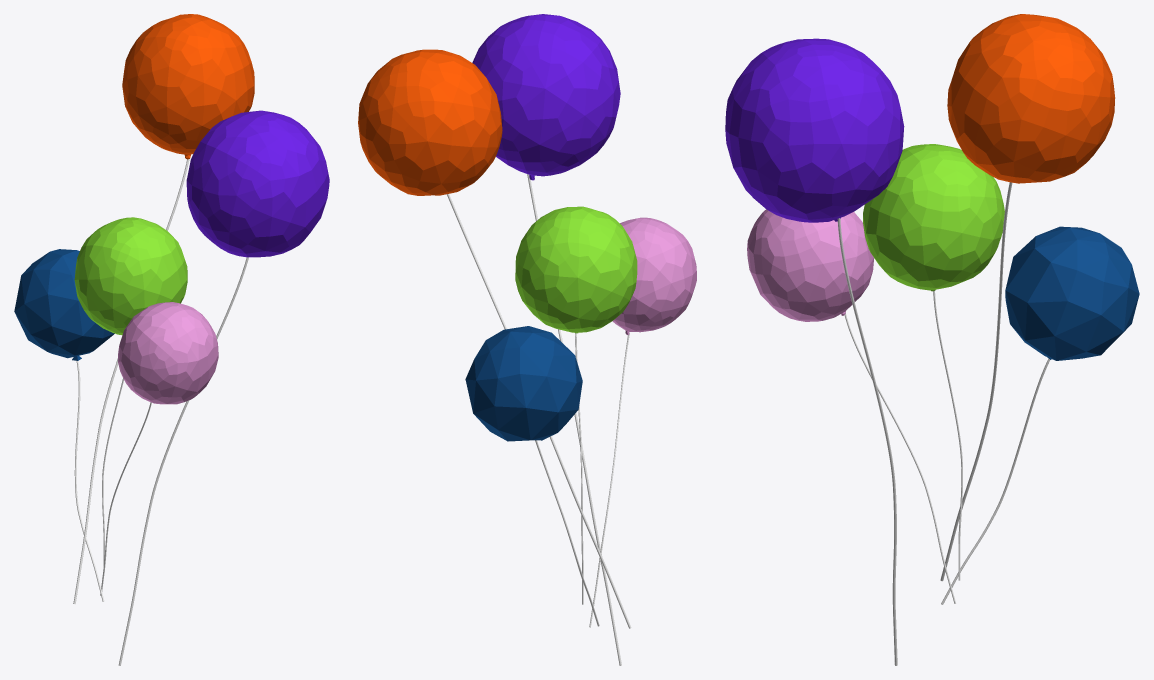
Rendered from Ballon.fbx.
3 renders of one model, left to right at view 1: azimuth 30°, elevation 25°; view 2: azimuth 150°, elevation 25°; view 3: azimuth 270°, elevation 25°, orthographic. The views are drawn at different scales.
Parts seen in each view (by area): view 1: BallonPurple, BallonOrange, BallonGreen, BallonPink, BallonBlue; view 2: BallonPurple, BallonOrange, BallonGreen, BallonBlue, BallonPink; view 3: BallonPurple, BallonOrange, BallonGreen, BallonBlue, BallonPink.
Part boxes in pixels (x1,y1,x2,y2): BallonPurple: (118, 110, 329, 665); BallonOrange: (73, 14, 254, 604); BallonGreen: (74, 217, 187, 571); BallonPink: (100, 302, 218, 595); BallonBlue: (14, 249, 114, 601); BallonPurple: (472, 14, 621, 665); BallonOrange: (358, 49, 631, 628); BallonGreen: (515, 206, 637, 604); BallonBlue: (465, 326, 599, 626); BallonPink: (589, 217, 696, 627); BallonPurple: (725, 38, 904, 665); BallonOrange: (940, 14, 1115, 581); BallonGreen: (863, 144, 1004, 580); BallonBlue: (941, 226, 1139, 604); BallonPink: (747, 209, 955, 603).
Bounding box in the file's own units: 321 × 839 × 438.
